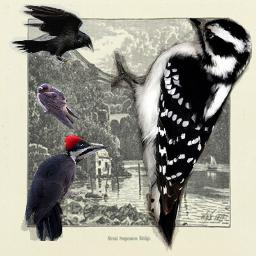Crow: (9, 4, 94, 66)
Swallow: (36, 83, 81, 131)
Woodpecker: (111, 18, 252, 254), (21, 134, 112, 241)
